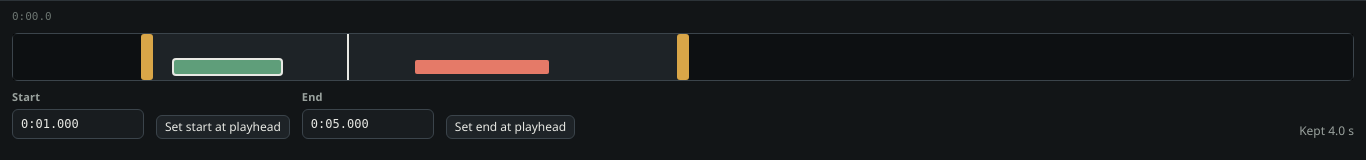
Test: TrimBar timecode fields › reverts an out-of-range value on Enter
Step 1. Replace the text in the field labelled "Start" with "0:06.0" → (78, 124), box [12,109,144,139]
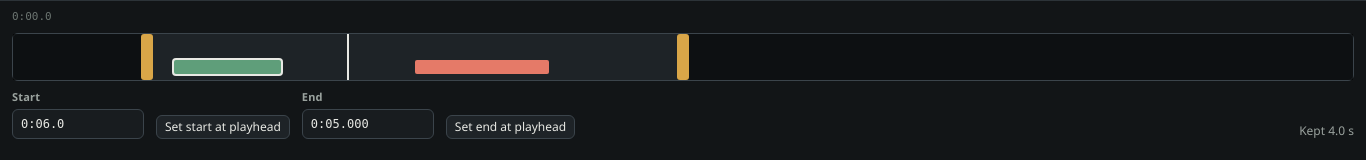
Step 2. Press Enter in the field labelled "Start", box [12,109,144,139]
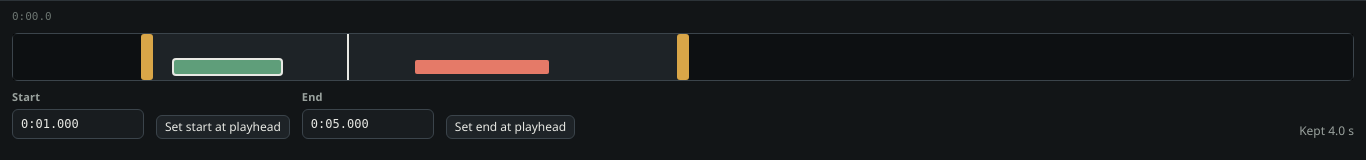
Expected: the field labelled "Start" holds "0:01.000", [12,109,144,139]
